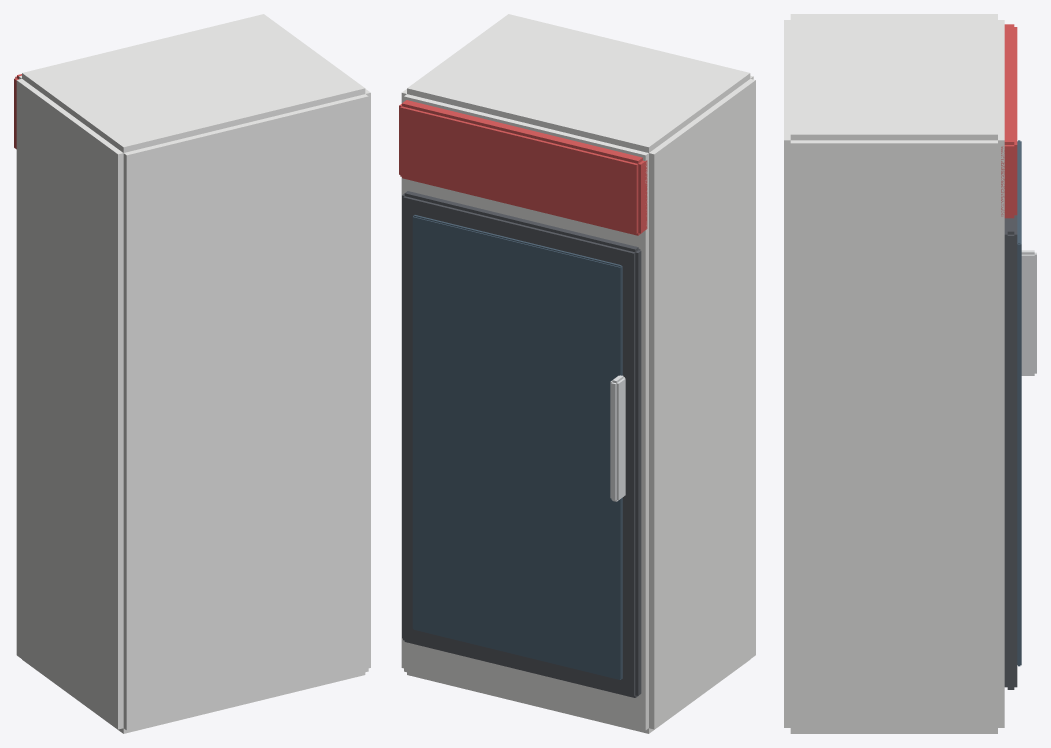
The model's file is Interior_DrinkFridge.fbx.
3 views of the same model, side by side, from view 1: azimuth 30°, elevation 25°; view 2: azimuth 150°, elevation 25°; view 3: azimuth 270°, elevation 25° (orthographic). The views are drawn at different scales.
Visible parts, largest first — view 1: Interior_DrinkFridge; view 2: Interior_DrinkFridge; view 3: Interior_DrinkFridge.
Boxes of the visible parts, x1,y1,x2,y2 form: Interior_DrinkFridge: (14,14,370,733); Interior_DrinkFridge: (399,14,755,733); Interior_DrinkFridge: (784,14,1036,733).
Size of the model in its own units: 0.92 by 2.04 by 0.78.
